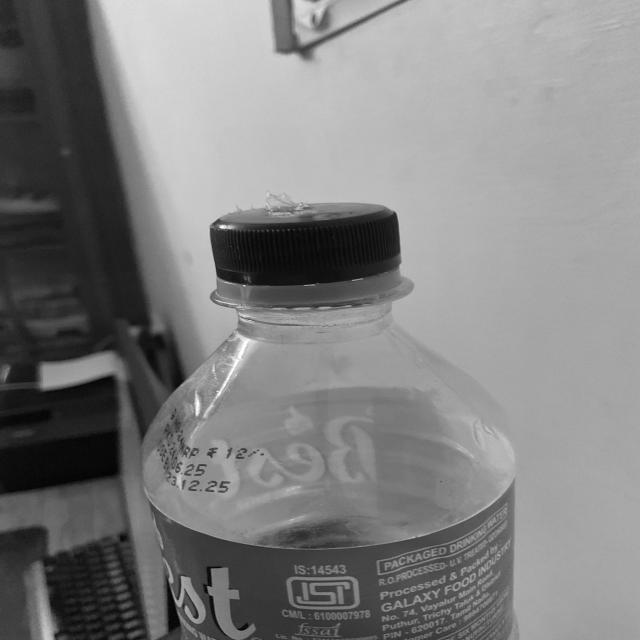Good-cap-Df0S: (207, 202, 406, 296)
